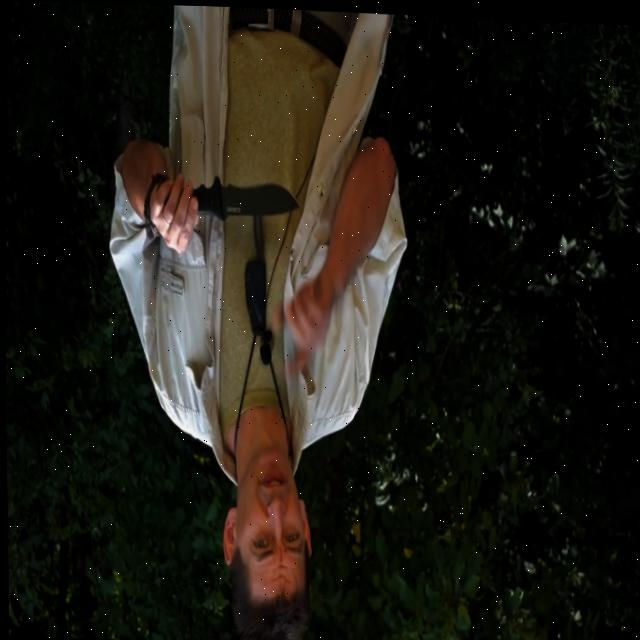knife: (190, 170, 300, 223)
